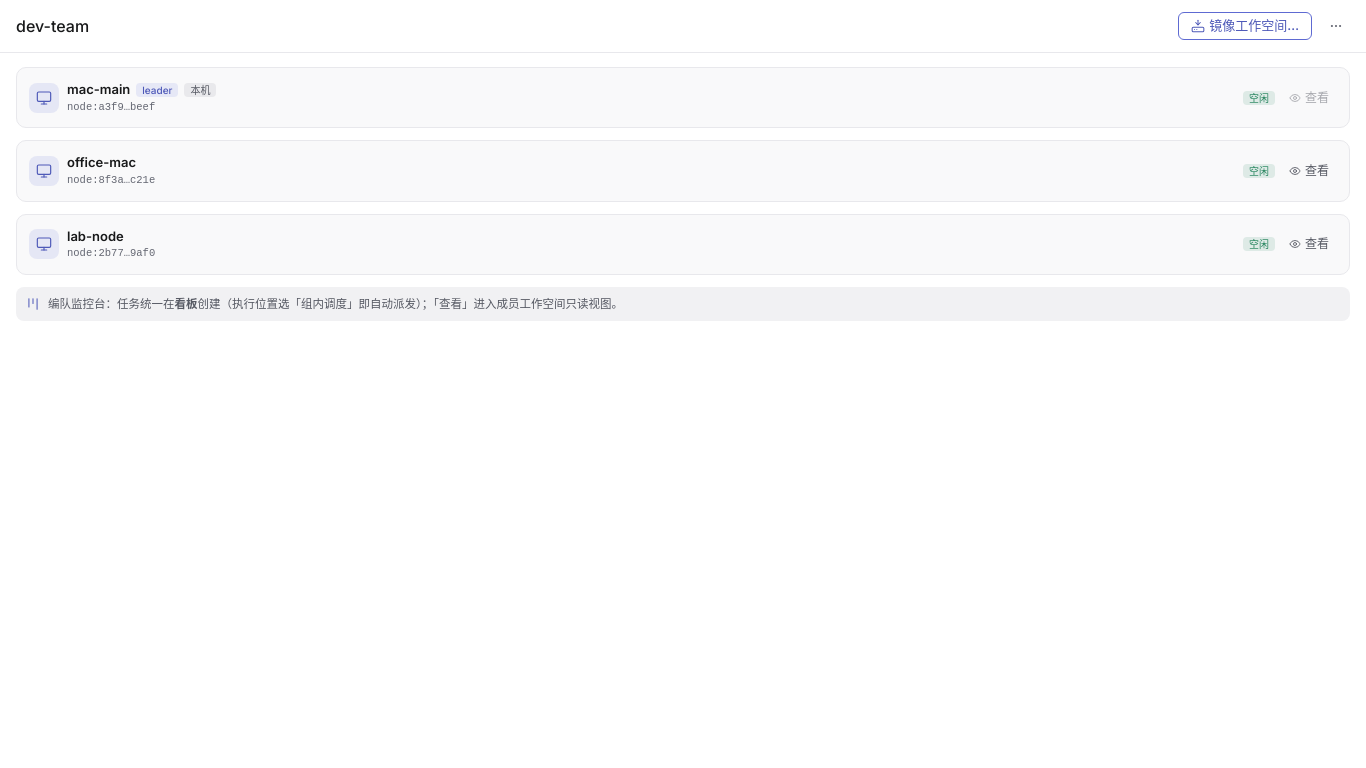
Test: GroupMonitor › 镜像入口仅 leader：本机 leader 点击挂起既有 MirrorWizard 弹层
Click the button "镜像工作空间…": (1245, 26) [1178,12,1312,40]
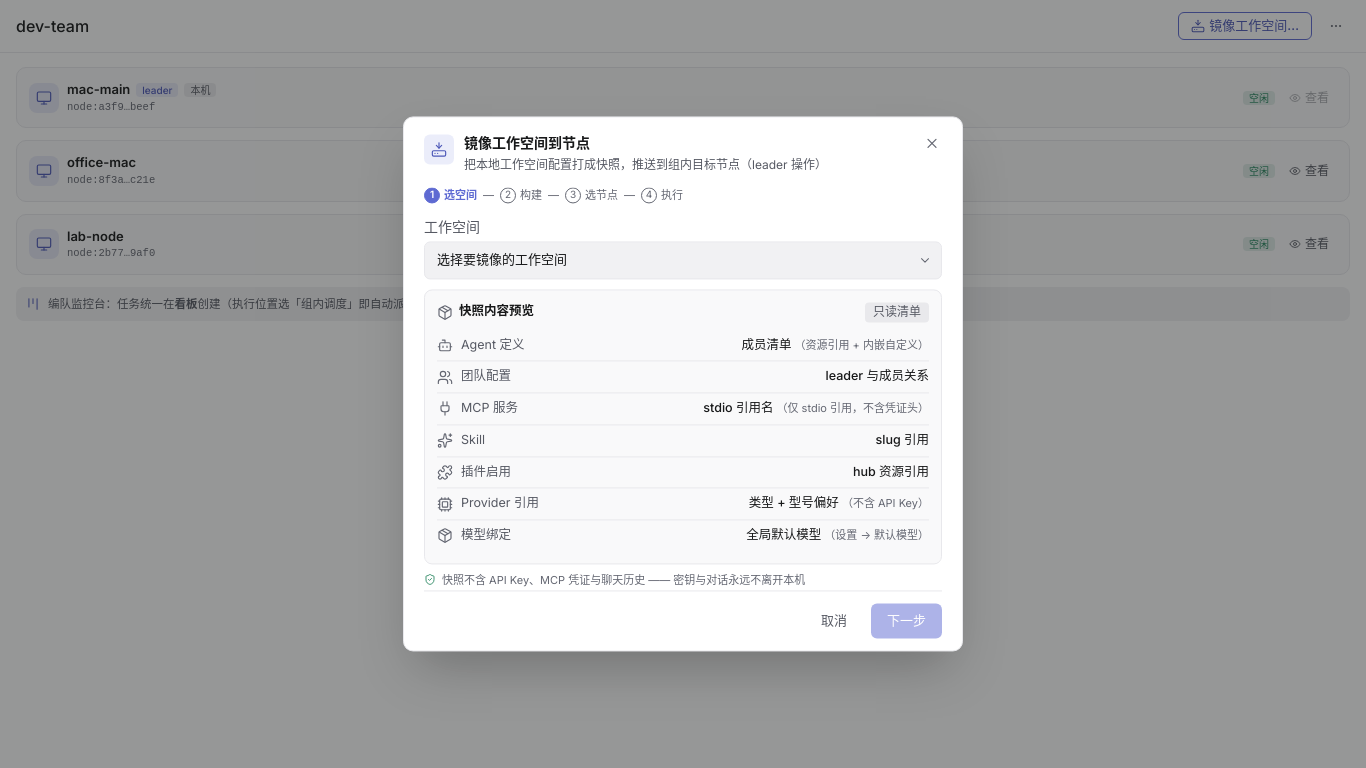
Result: the dialog named "镜像工作空间向导" is shown at [403,116,963,652]
